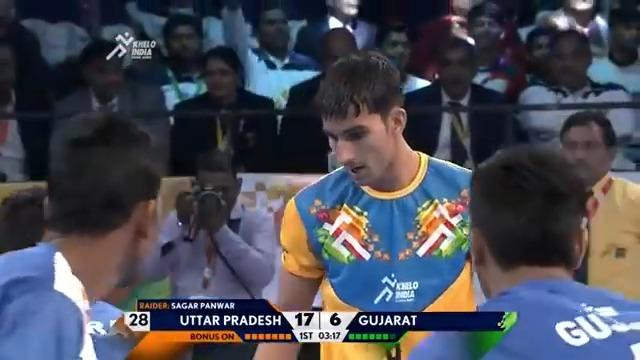Player: (406, 143, 638, 359), (0, 110, 162, 359), (556, 108, 639, 301)
Raider: (251, 49, 480, 358)
referee: (108, 147, 279, 358), (401, 34, 528, 171), (48, 37, 170, 176), (168, 45, 277, 175)
